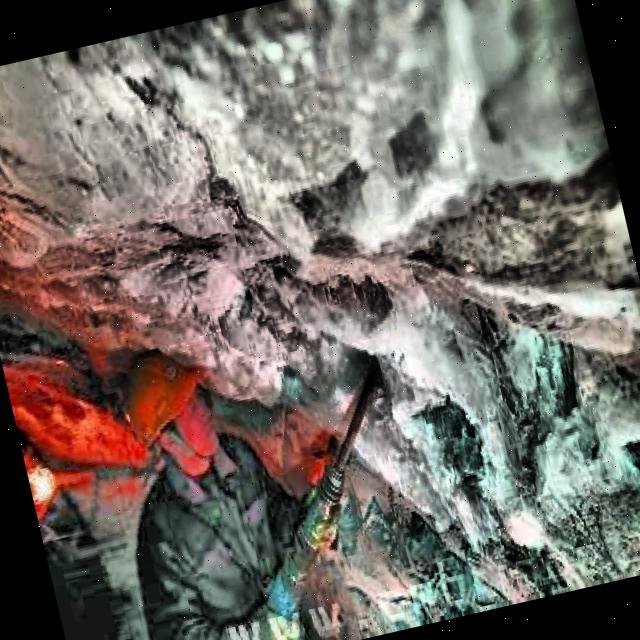helmet: (115, 344, 234, 492)
